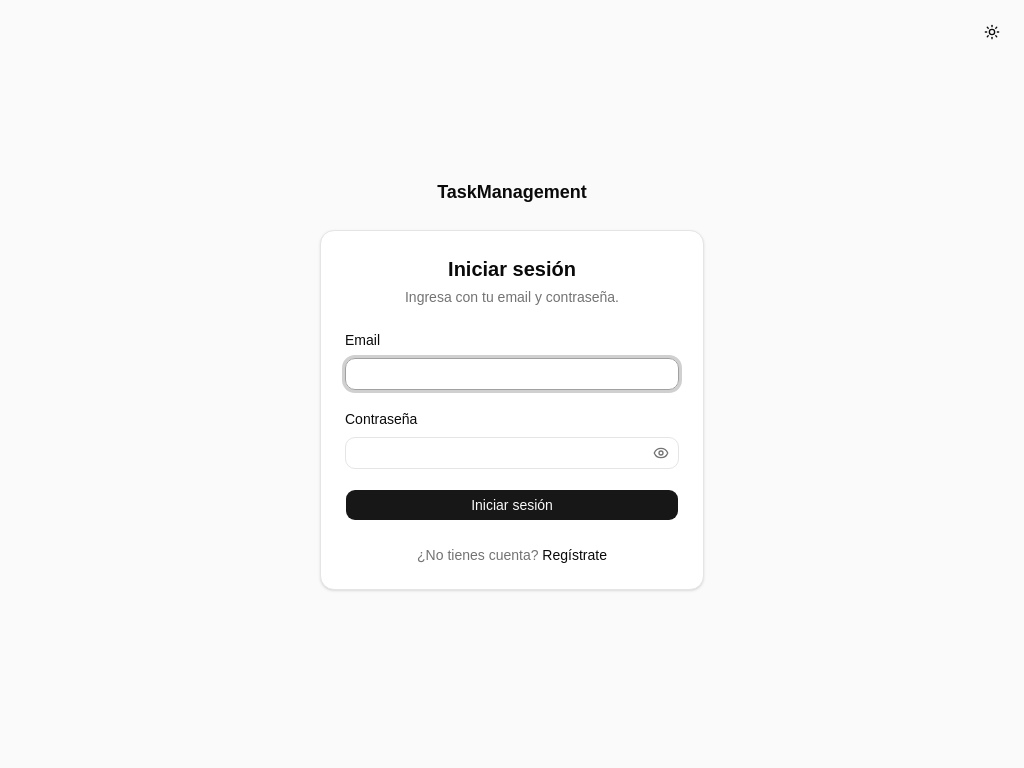
Navegación y permisos › un Usuario que intenta entrar a una página de Admin ve "Sin acceso"
The width and height of the screenshot is (1024, 768).
Type "usuario@test.com" into the field labelled "Email".
click(512, 374); type("usuario@test.com")  # box 345,358 -> 679,390
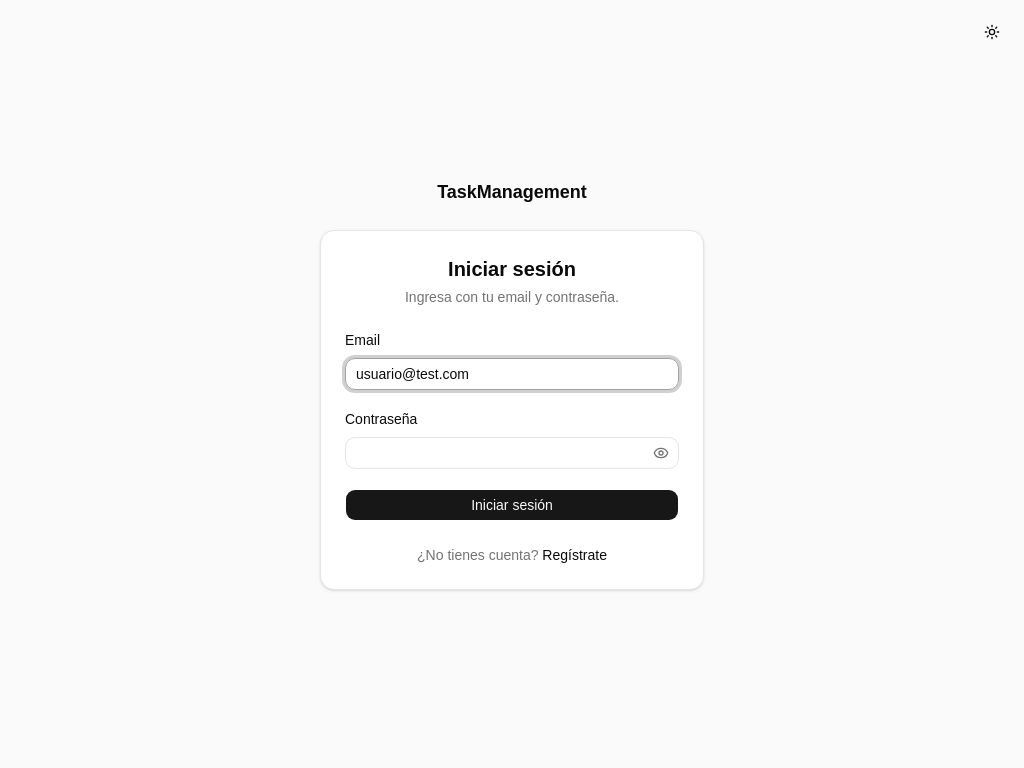
Type "Clave1234" into the password field labelled "Contraseña".
click(512, 453); type("Clave1234")  # box 345,437 -> 679,469
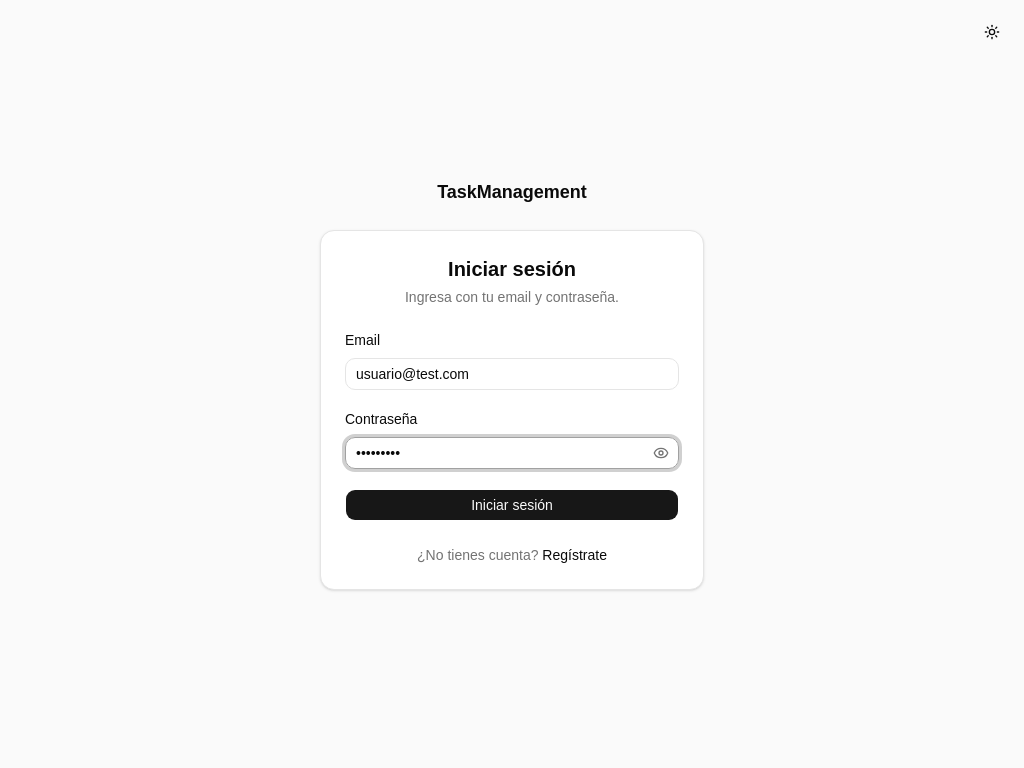
Click the button "Iniciar sesión".
click(512, 505)  # box 345,489 -> 679,521
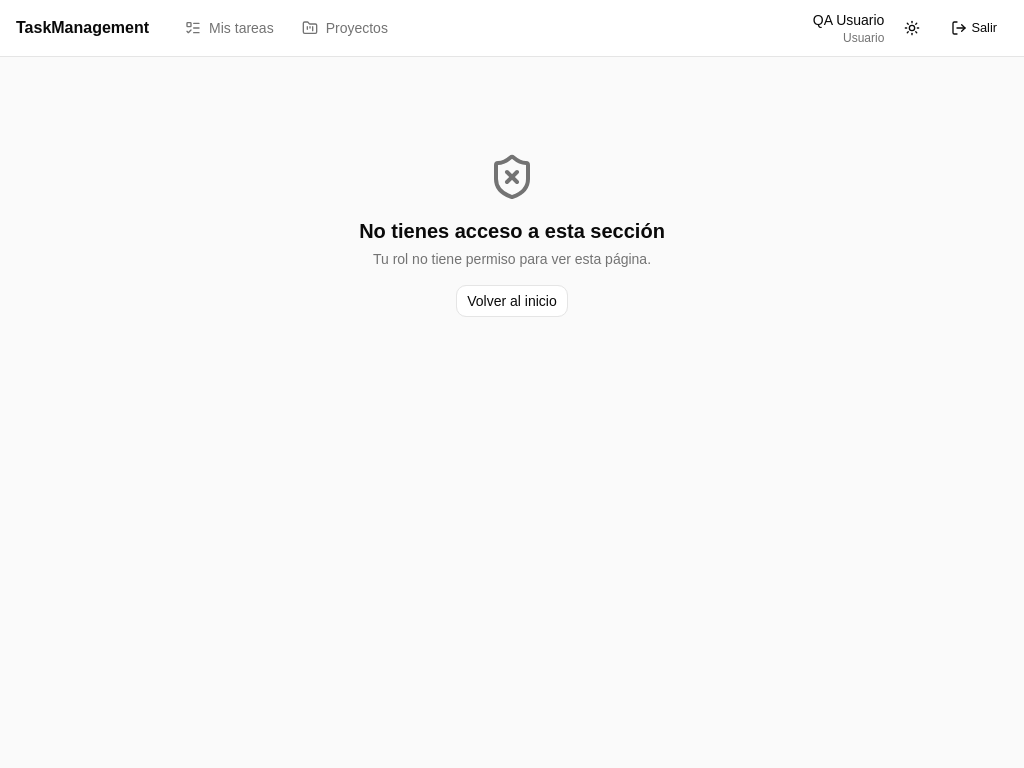
Result: the heading "No tienes acceso a esta sección" is shown at 359,217 -> 665,245
